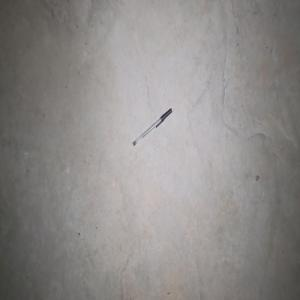Pen: (132, 107, 172, 146)
